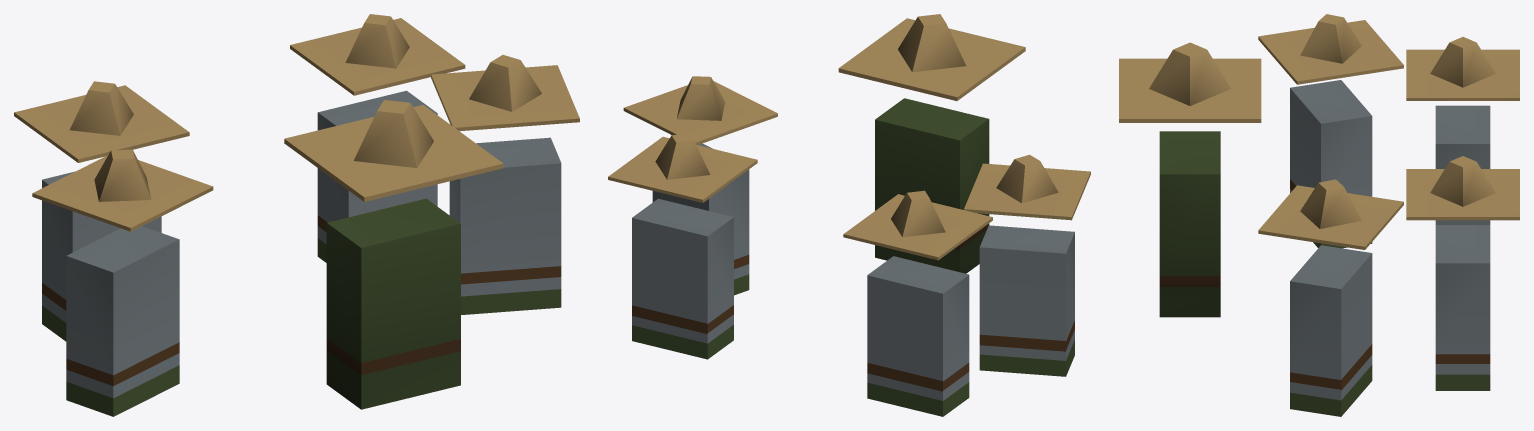
The model's file is steam-rangers-lod3.glb.
3 views of the same model, side by side, from view 1: azimuth 30°, elevation 25°; view 2: azimuth 150°, elevation 25°; view 3: azimuth 270°, elevation 25° (orthographic). The views are drawn at different scales.
Visible parts, largest first — view 1: cap_torso, att3_torso, att2_torso, cap_hat, att2_hat, att0_hat, att1_hat, att3_hat, att1_torso, att0_torso; view 2: att1_torso, att0_torso, att3_torso, cap_torso, cap_hat, att3_hat, att0_hat, att1_hat, att2_hat, att2_torso; view 3: att2_torso, cap_torso, cap_hat, att0_torso, att3_torso, att3_hat, att2_hat, att0_hat, att1_hat, att1_torso.
Boxes of the visible parts, left/top/right/bottom form: cap_torso: left=326, top=198, right=460, bottom=409; att3_torso: left=66, top=226, right=179, bottom=416; att2_torso: left=449, top=137, right=561, bottom=314; cap_hat: left=284, top=100, right=503, bottom=201; att2_hat: left=431, top=55, right=579, bottom=131; att0_hat: left=290, top=14, right=465, bottom=95; att1_hat: left=14, top=81, right=189, bottom=162; att3_hat: left=32, top=149, right=213, bottom=231; att1_torso: left=42, top=171, right=161, bottom=341; att0_torso: left=317, top=90, right=437, bottom=262; att1_torso: left=867, top=256, right=969, bottom=416; att0_torso: left=632, top=198, right=733, bottom=359; att3_torso: left=979, top=225, right=1074, bottom=376; cap_torso: left=875, top=98, right=989, bottom=273; cap_hat: left=838, top=14, right=1025, bottom=100; att3_hat: left=964, top=154, right=1090, bottom=220; att0_hat: left=608, top=133, right=757, bottom=202; att1_hat: left=843, top=190, right=992, bottom=260; att2_hat: left=623, top=76, right=777, bottom=144; att2_torso: left=652, top=143, right=749, bottom=295; att2_torso: left=1290, top=245, right=1372, bottom=416; cap_torso: left=1159, top=131, right=1220, bottom=317; cap_hat: left=1119, top=42, right=1261, bottom=122; att0_torso: left=1435, top=225, right=1490, bottom=390; att3_torso: left=1290, top=80, right=1372, bottom=248; att3_hat: left=1258, top=14, right=1403, bottom=84; att2_hat: left=1258, top=179, right=1403, bottom=249; att0_hat: left=1406, top=156, right=1519, bottom=220; att1_hat: left=1406, top=37, right=1519, bottom=100; att1_torso: left=1435, top=105, right=1490, bottom=224.
Size of the model in its own units: 2.36 by 1.27 by 1.76.
